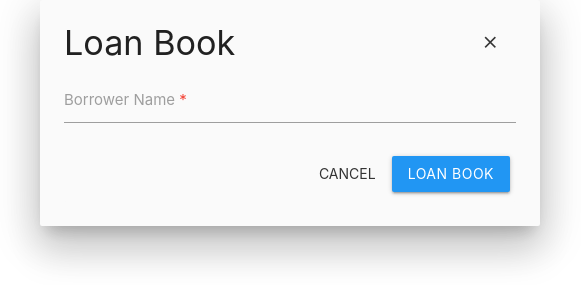
Test: LoanBookModal Component › should disable form while submitting
The image size is (581, 285).
Type "Jane Doe" into the field labelled "Borrower Name *". click: (290, 100)
box: x1=64 y1=77 x2=516 y2=123
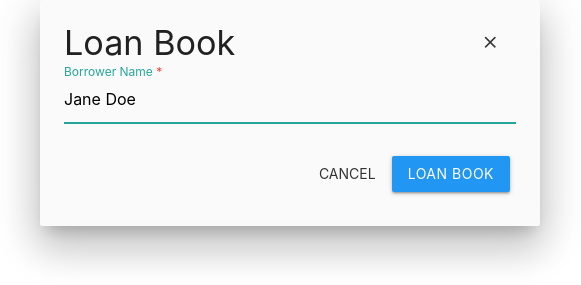
Click the button "Loan Book". click: (451, 174)
box: x1=392 y1=156 x2=510 y2=192
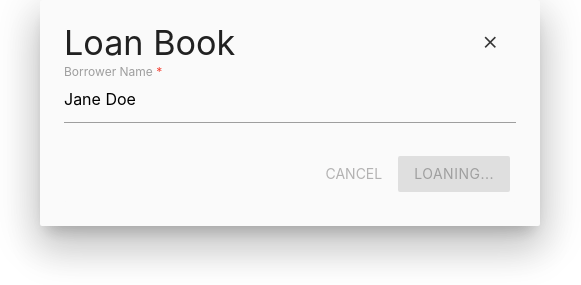
Now the button "Loaning..." is disabled, box x1=398 y1=156 x2=510 y2=192
Now the button "Cancel" is disabled, box x1=310 y1=156 x2=398 y2=192
